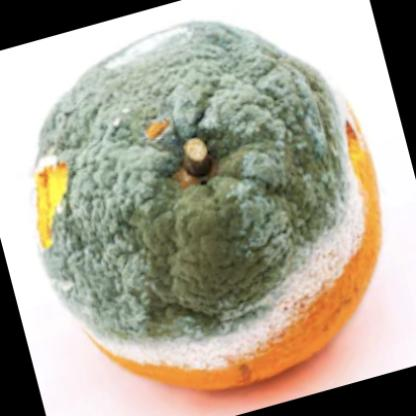rotten: (34, 22, 380, 392)
